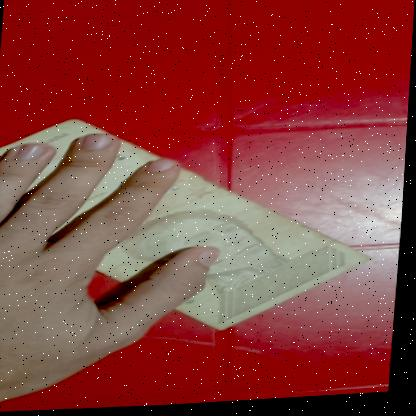five-front-vef: (0, 104, 385, 346)
